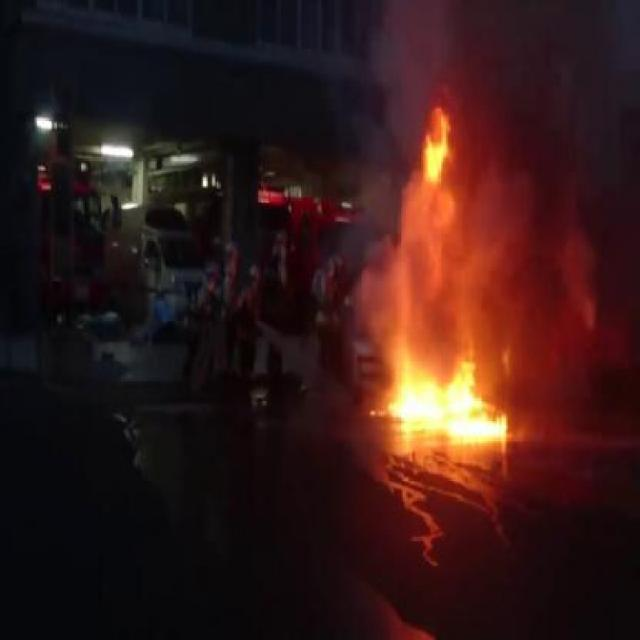Fire: (394, 254, 534, 371), (385, 357, 508, 448), (422, 110, 452, 178)
